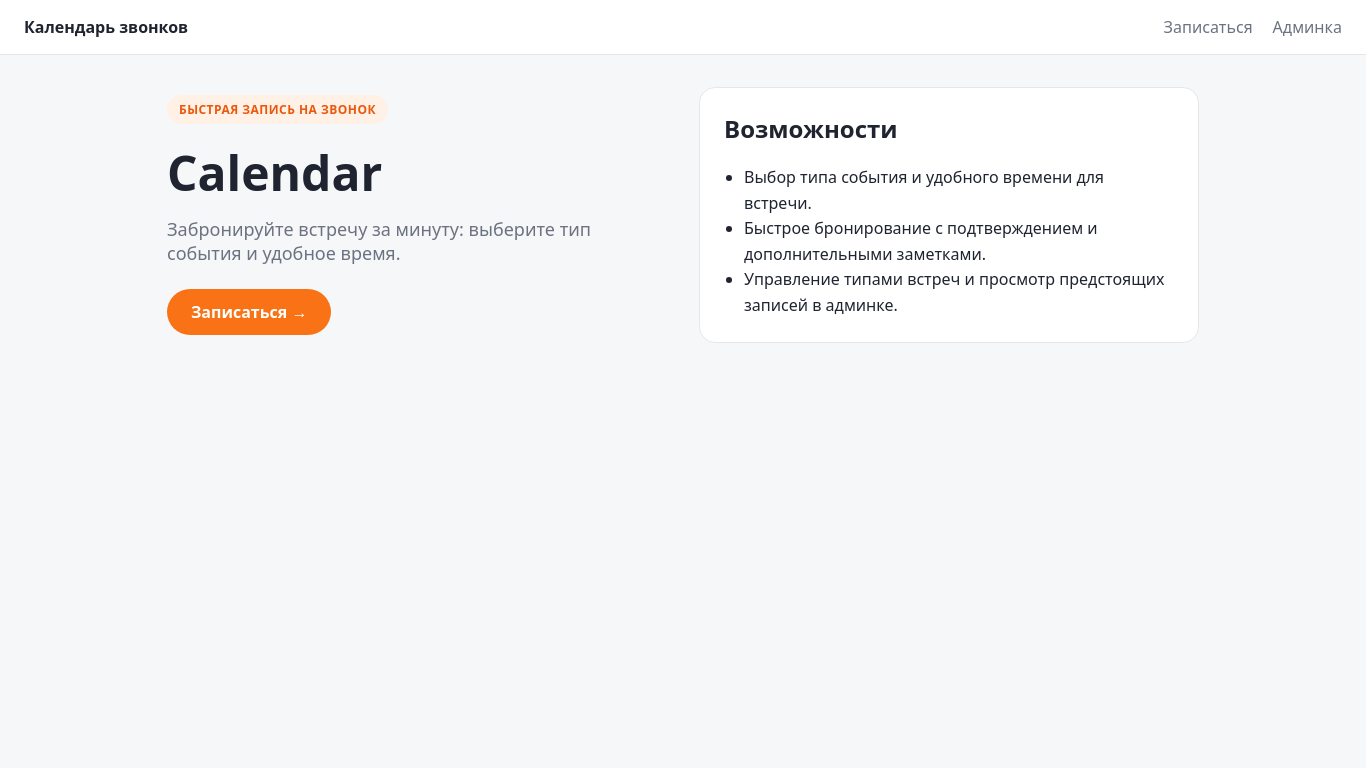
Scenario: App › keeps the header navigation on every page
Step 1. Click the link "Админка" → (1307, 27), box [1273, 16, 1342, 38]
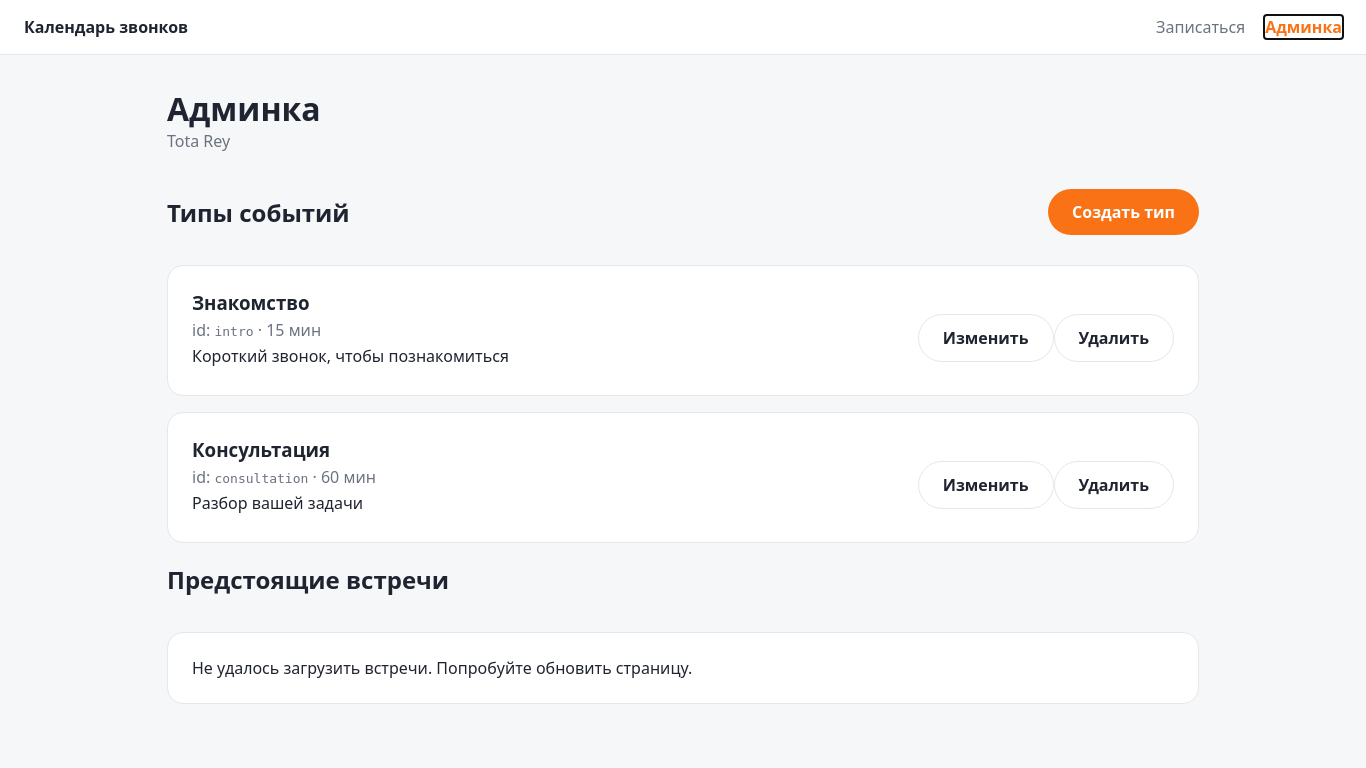
Check: the heading "Админка" is shown, box [167, 87, 321, 130]
Step 2. Click the link "Записаться" → (1201, 27), box [1156, 16, 1245, 38]
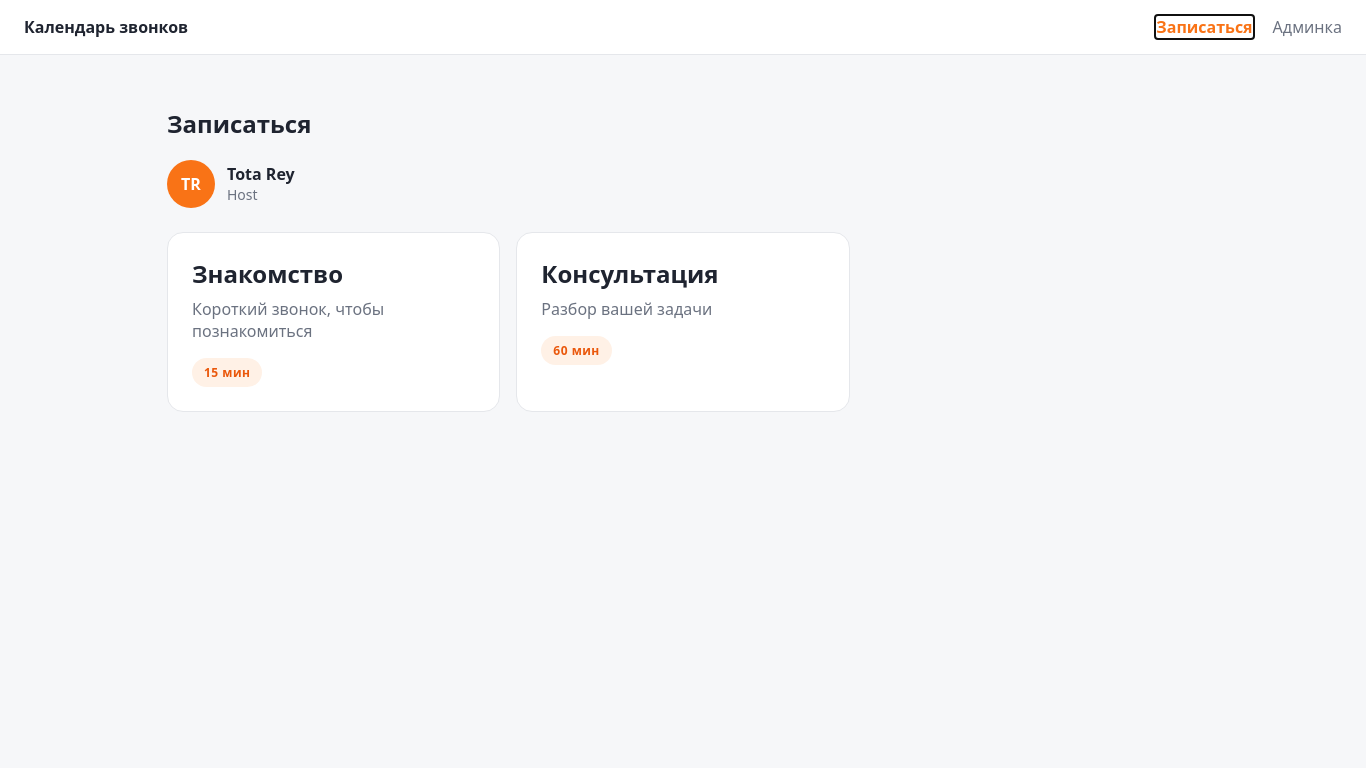
Check: the link "Админка" is shown, box [1273, 16, 1342, 38]
Check: the heading "Записаться" is shown, box [167, 107, 311, 140]
